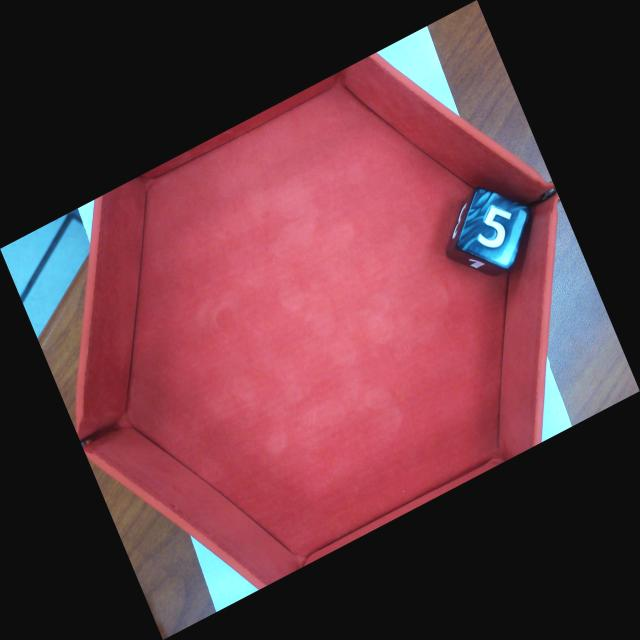dice: (459, 191, 529, 268)
